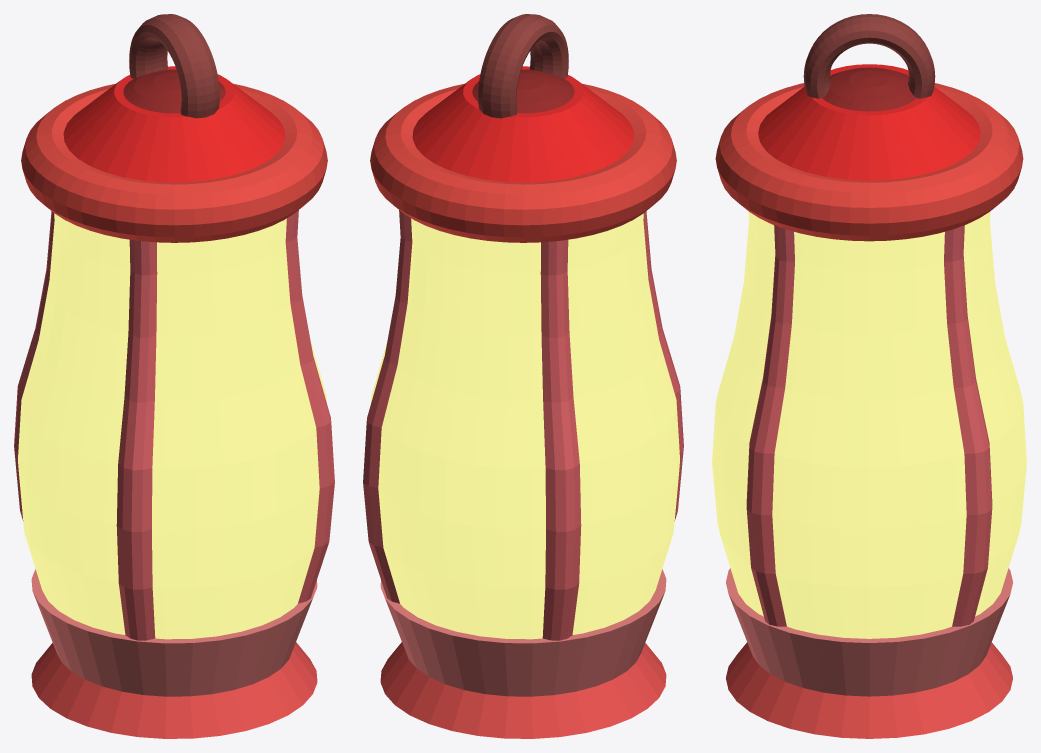
Rendered from 4h-lantern.gltf.
The picture shows the model from 3 angles, left to right: view 1: azimuth 30°, elevation 25°; view 2: azimuth 150°, elevation 25°; view 3: azimuth 270°, elevation 25°; orthographic projection.
Visible parts, largest first — view 1: Cylinder, Torus, Cylinder.001, Cylinder.006, Cylinder.007, Cylinder.003, Cylinder.002, Torus.001, Sphere; view 2: Cylinder, Torus, Cylinder.001, Cylinder.006, Cylinder.007, Cylinder.002, Cylinder.003, Torus.001, Sphere; view 3: Cylinder, Torus, Cylinder.001, Cylinder.006, Cylinder.007, Cylinder.002, Cylinder.003, Torus.001, Sphere.
Part boxes in pixels (x1,y1,x2,y2): Cylinder: (18,213,327,639); Torus: (21,83,327,242); Cylinder.001: (63,66,285,182); Cylinder.006: (31,569,317,696); Cylinder.007: (31,642,317,738); Cylinder.003: (116,239,157,640); Cylinder.002: (14,210,334,603); Torus.001: (129,14,219,118); Sphere: (123,69,225,113); Cylinder: (370,213,679,639); Torus: (370,83,676,242); Cylinder.001: (412,66,634,182); Cylinder.006: (380,569,666,696); Cylinder.007: (380,642,666,738); Cylinder.002: (540,239,581,640); Cylinder.003: (363,210,683,603); Torus.001: (478,14,568,118); Sphere: (472,69,574,113); Cylinder: (712,211,1026,638); Torus: (715,83,1023,241); Cylinder.001: (758,64,980,180); Cylinder.006: (726,568,1012,696); Cylinder.007: (726,642,1012,738); Cylinder.002: (746,225,794,626); Cylinder.003: (944,225,992,626); Torus.001: (803,14,935,98); Sphere: (822,67,916,111).
Bounding box in the file's own units: 1.18 × 2.74 × 1.18.
